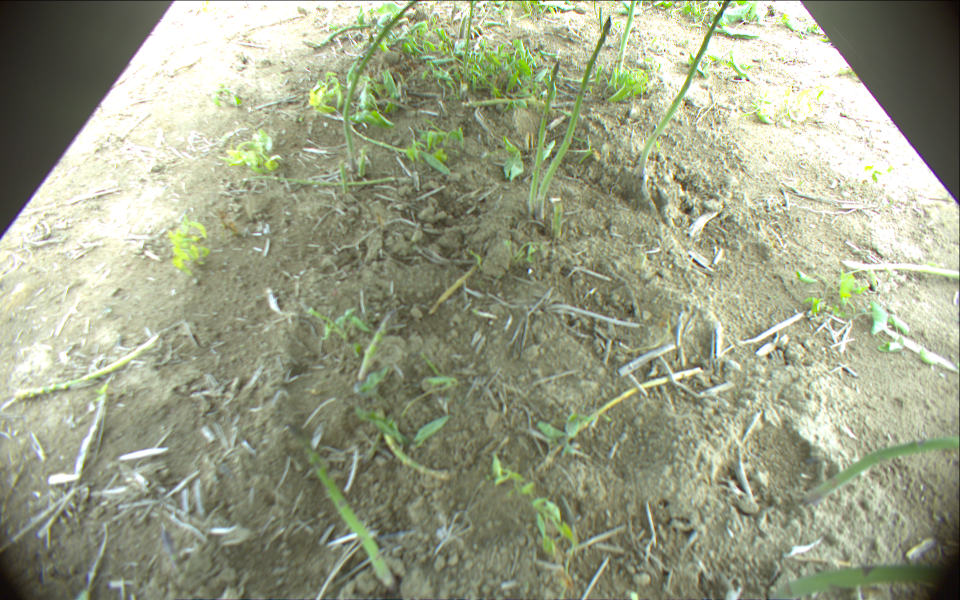aspa: (638, 1, 732, 199), (286, 426, 394, 588), (536, 16, 611, 219), (553, 365, 705, 456), (345, 1, 419, 171), (804, 433, 959, 507), (14, 334, 163, 399), (773, 554, 941, 600), (375, 404, 449, 482), (529, 59, 561, 216), (354, 305, 398, 382), (841, 259, 960, 281), (243, 175, 395, 190), (302, 21, 373, 50), (617, 1, 635, 72), (461, 8, 476, 84), (463, 96, 540, 109), (550, 194, 562, 235), (358, 148, 368, 179), (339, 159, 347, 193), (460, 13, 468, 40), (599, 7, 605, 32), (592, 1, 599, 18)
